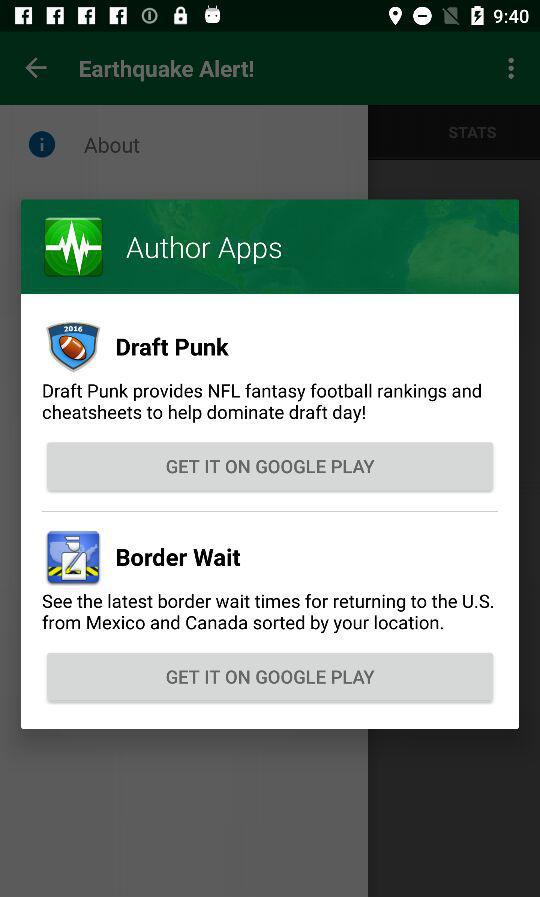Icon: (29, 131, 57, 160), (25, 58, 49, 81), (507, 59, 515, 82)
Image: (44, 217, 105, 279), (48, 531, 101, 584), (48, 322, 101, 372)
Modal: (21, 199, 520, 730)
Text: (42, 593, 494, 634), (43, 383, 482, 424), (127, 236, 283, 266), (80, 60, 254, 83), (117, 546, 242, 567), (117, 336, 231, 357), (85, 136, 141, 155), (447, 127, 496, 141)
TextButton: (47, 653, 494, 705), (47, 442, 494, 493)
UpperTaskBar: (1, 1, 540, 33)
